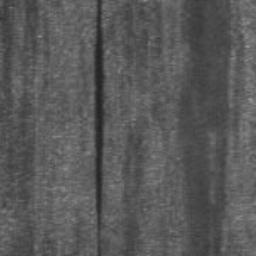Scratches: (93, 0, 103, 256)
